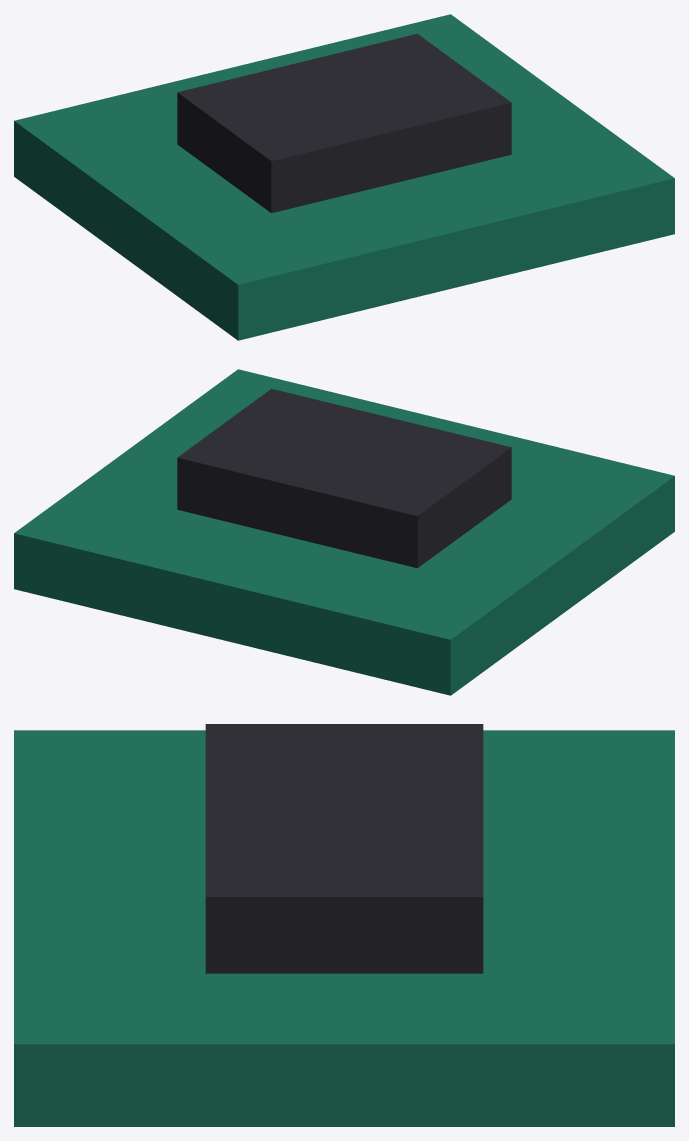
File: 36_L96_S2_Sensor.glb
3 renders of one model, top to bottom at view 1: azimuth 30°, elevation 25°; view 2: azimuth 150°, elevation 25°; view 3: azimuth 270°, elevation 25°, orthographic. The views are drawn at different scales.
Parts seen in each view (by area): view 1: S2_000_Mini_Module_PCB, S2_001_Sensor_Interface_Package; view 2: S2_000_Mini_Module_PCB, S2_001_Sensor_Interface_Package; view 3: S2_000_Mini_Module_PCB, S2_001_Sensor_Interface_Package.
Part boxes in pixels (bbox=[...]): S2_000_Mini_Module_PCB: bbox=[14, 14, 674, 340]; S2_001_Sensor_Interface_Package: bbox=[177, 33, 511, 213]; S2_000_Mini_Module_PCB: bbox=[14, 369, 674, 695]; S2_001_Sensor_Interface_Package: bbox=[177, 388, 511, 568]; S2_000_Mini_Module_PCB: bbox=[14, 730, 674, 1126]; S2_001_Sensor_Interface_Package: bbox=[205, 724, 483, 973].
Size of the model in its own units: 0.009 by 0.00254 by 0.008.
